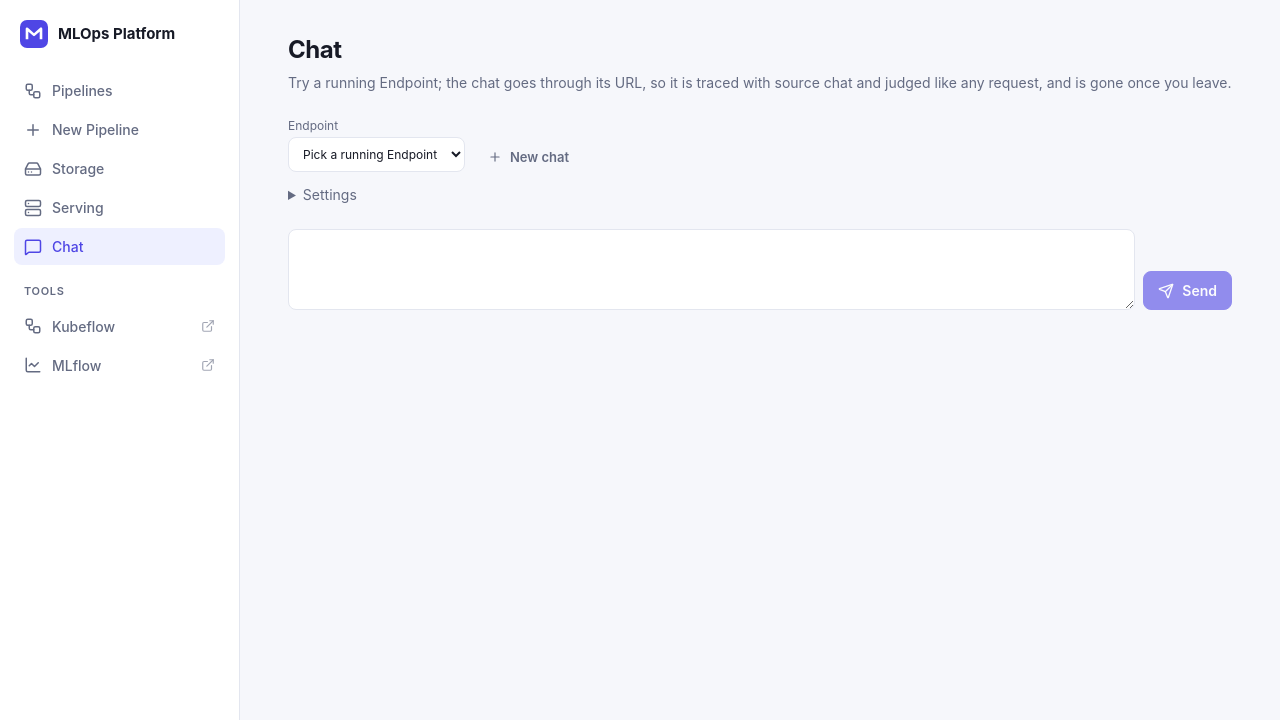
Test: a thumb can be changed, and a Feedback that can't be sent says so
Select "chat" in the dropdown labelled "Endpoint" at (376, 154), box [288,137,465,172]
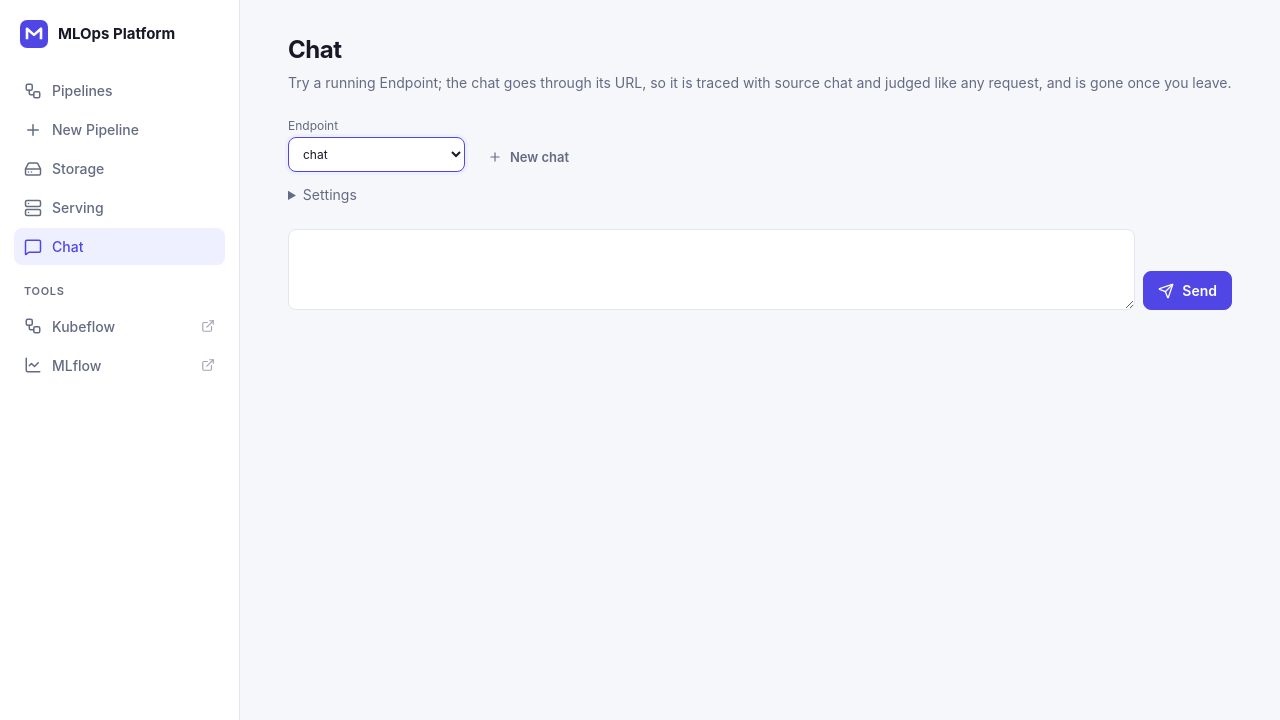
Type "Say hi." into the text box named "Message".
click(712, 270); type("Say hi.")  # box [288,229,1135,310]
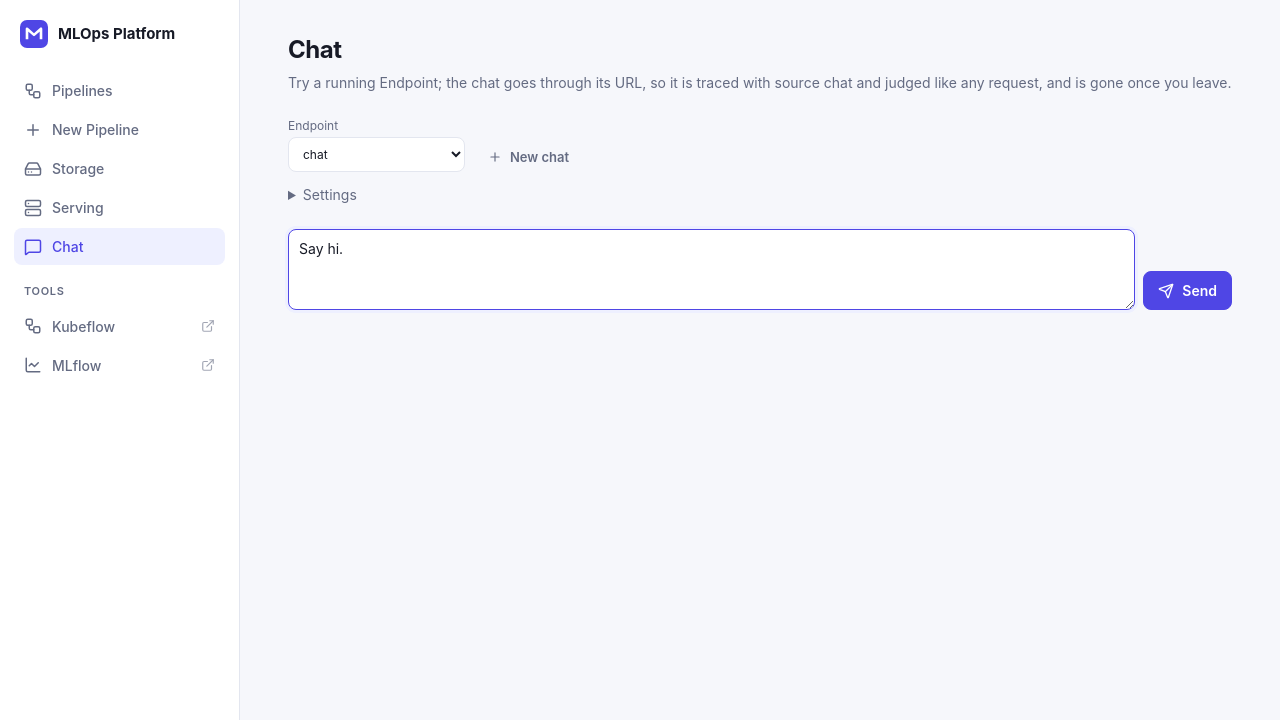
Click the button "Send".
click(1188, 290)  # box [1143,271,1232,310]
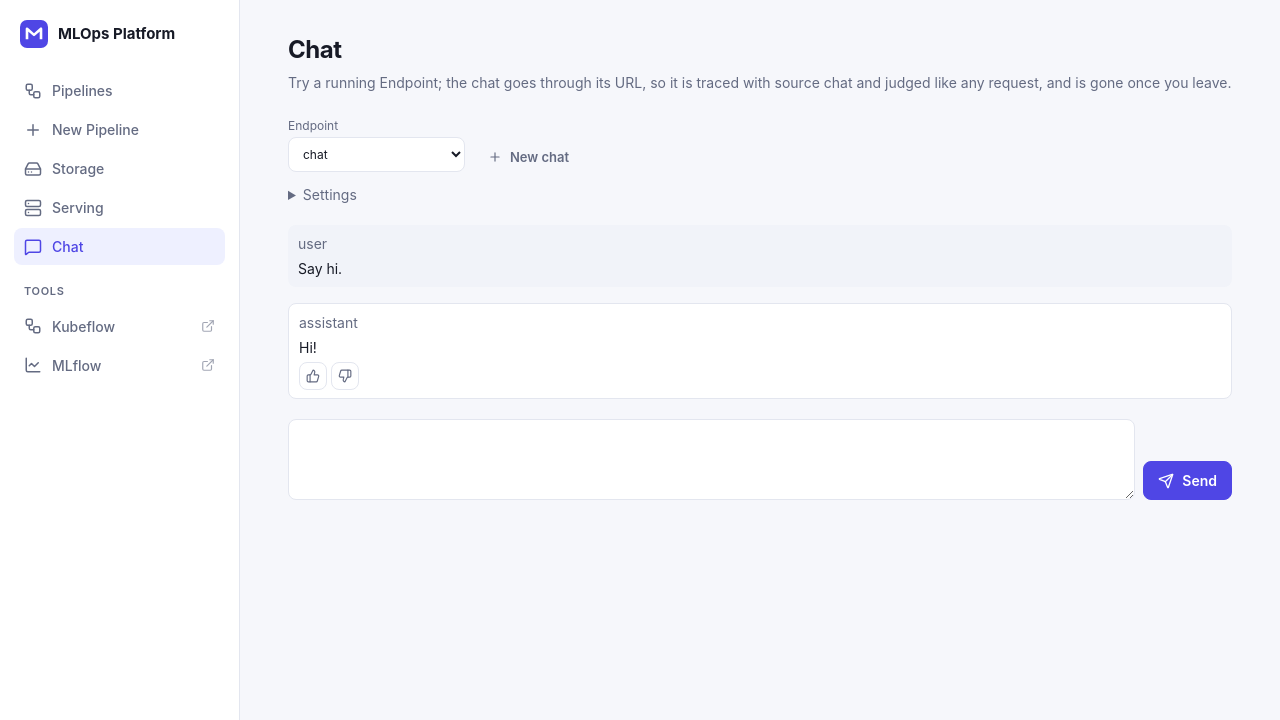
Check: the button named "Good answer" is enabled
Click the button named "Good answer".
click(313, 376)  # box [299,362,327,390]
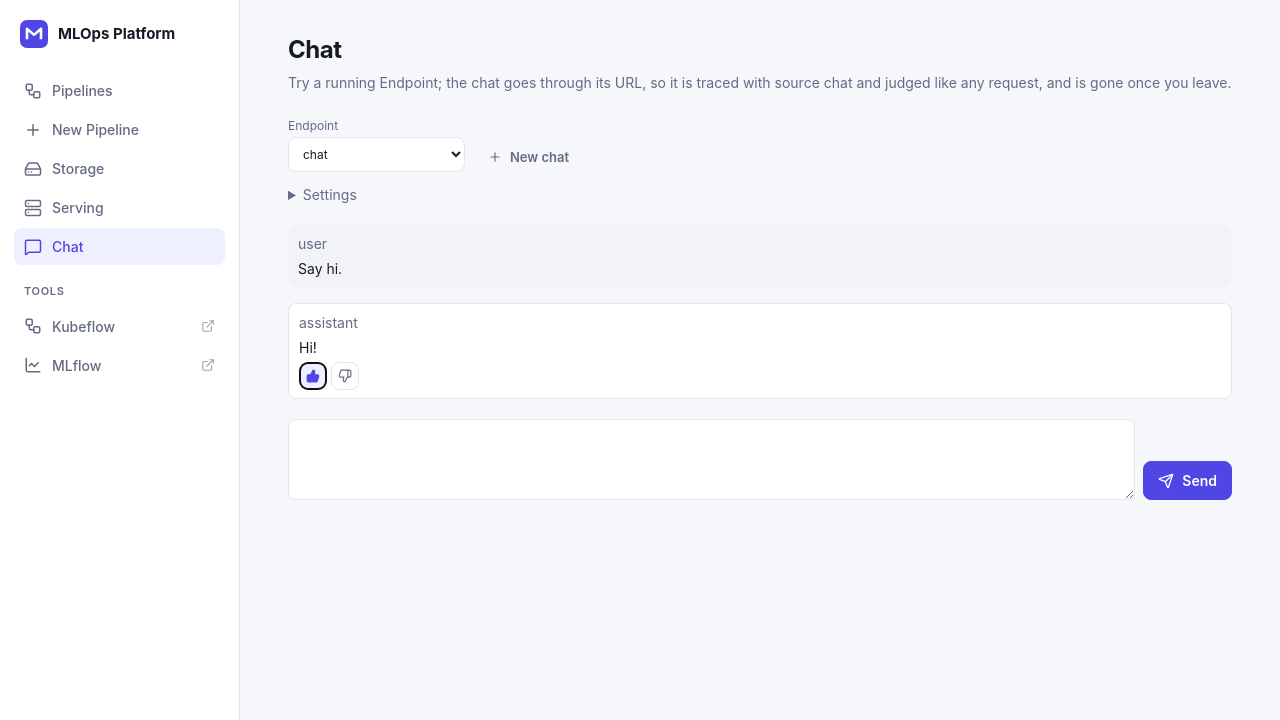
Check: the button named "Good answer" is pressed, box [299,362,327,390]
Click the button named "Bad answer".
click(345, 376)  # box [331,362,359,390]
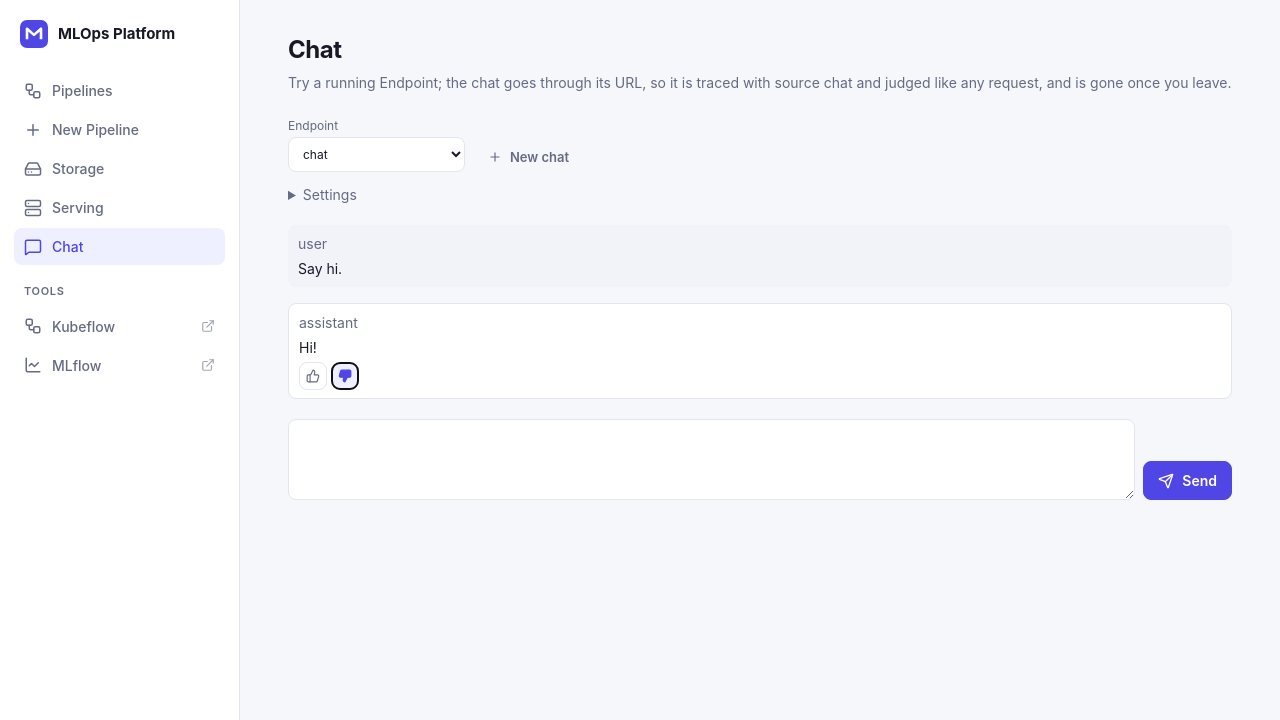
Check: the button named "Bad answer" is pressed, box [331,362,359,390]
Check: the button named "Good answer" is not pressed
Click the button named "Good answer".
click(313, 376)  # box [299,362,327,390]
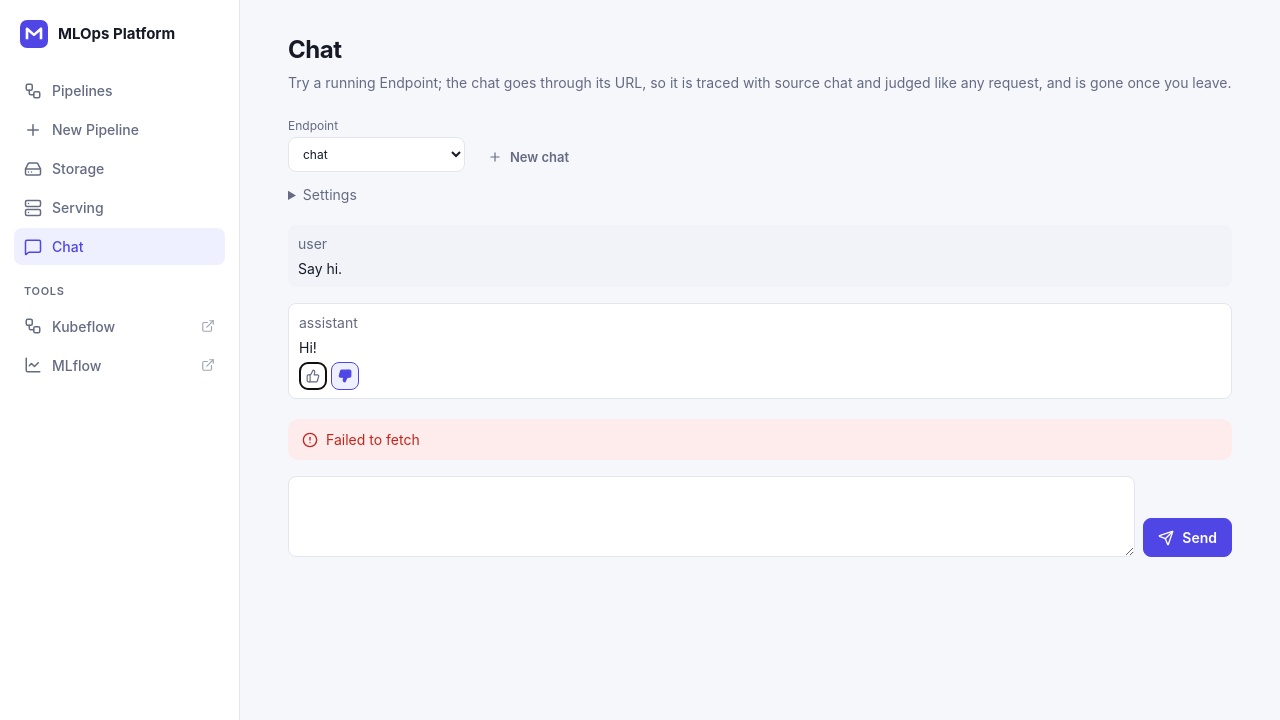
Check: the text "Failed to fetch" is shown, box [288,419,1232,460]
